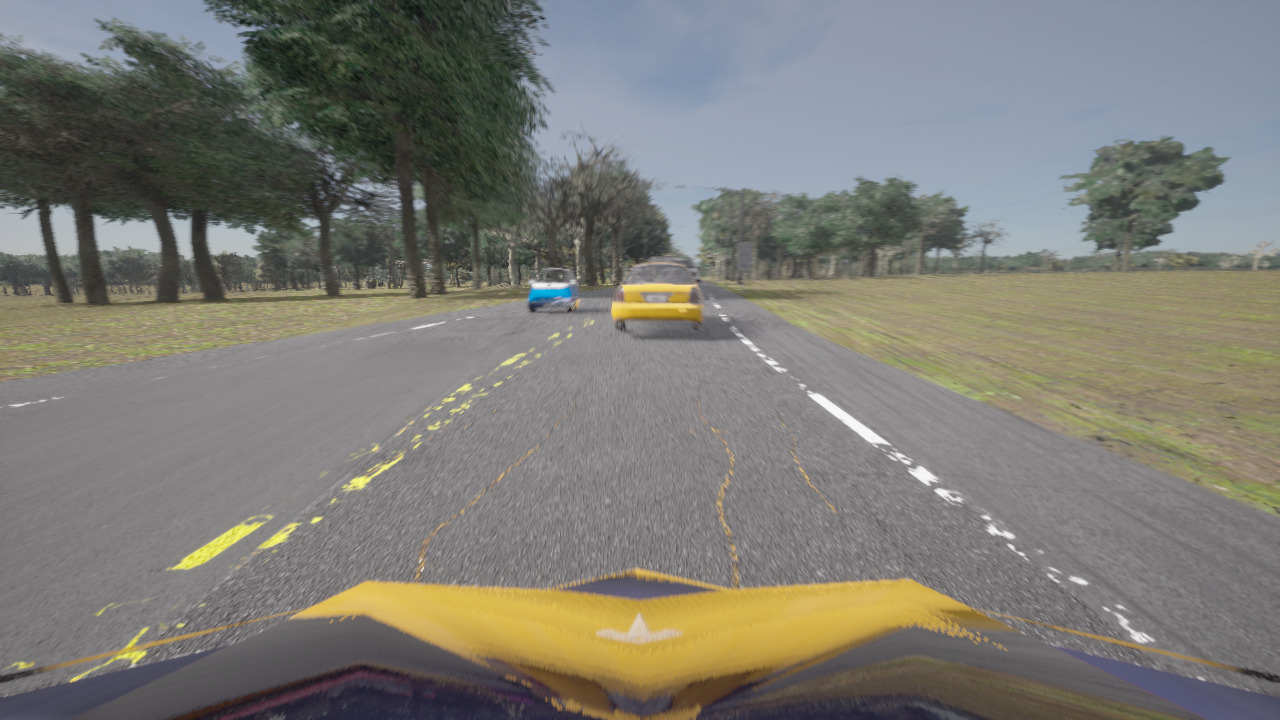cyclist: (0, 569, 1279, 719), (612, 257, 702, 331), (528, 268, 578, 312), (672, 259, 700, 284)
